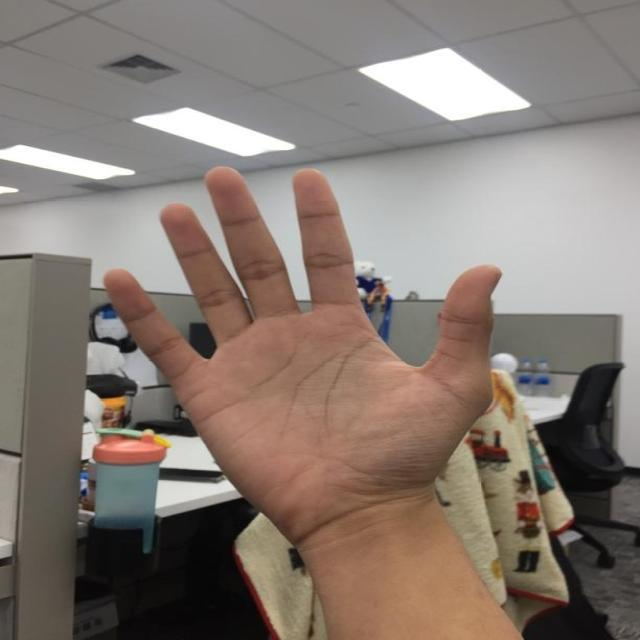no-gloves: (101, 163, 508, 520)
